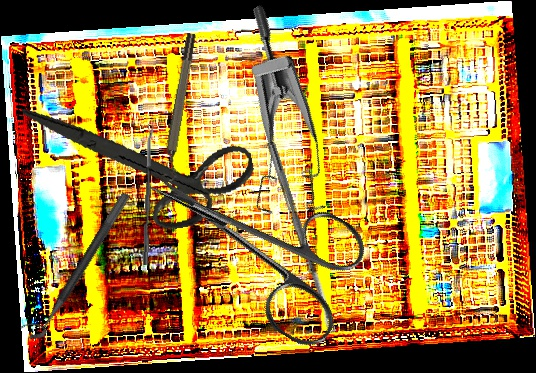Fixation Ring: (17, 183, 132, 346), (155, 32, 206, 183)
Iris Scissors: (116, 126, 382, 355), (21, 67, 263, 254)
Speculum: (173, 3, 362, 236)
Surgical Spoon: (265, 141, 337, 334), (143, 124, 154, 266)
